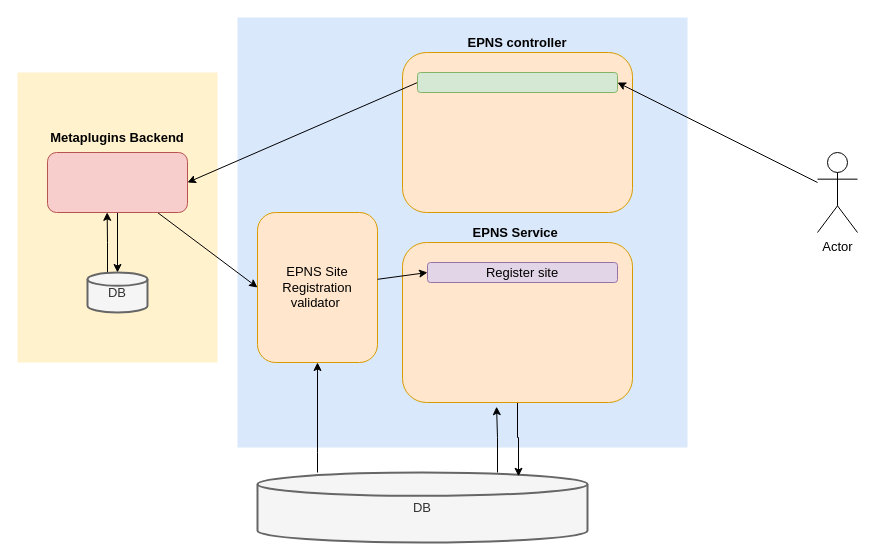
Image size: 875x560. Some labels were removed from this diagram. The centre of each missing label's shape, as x and y in pixels:
"POST /v1/site" belongs at (x=517, y=82).
"Signed JWT Validator" belongs at (x=117, y=182).
